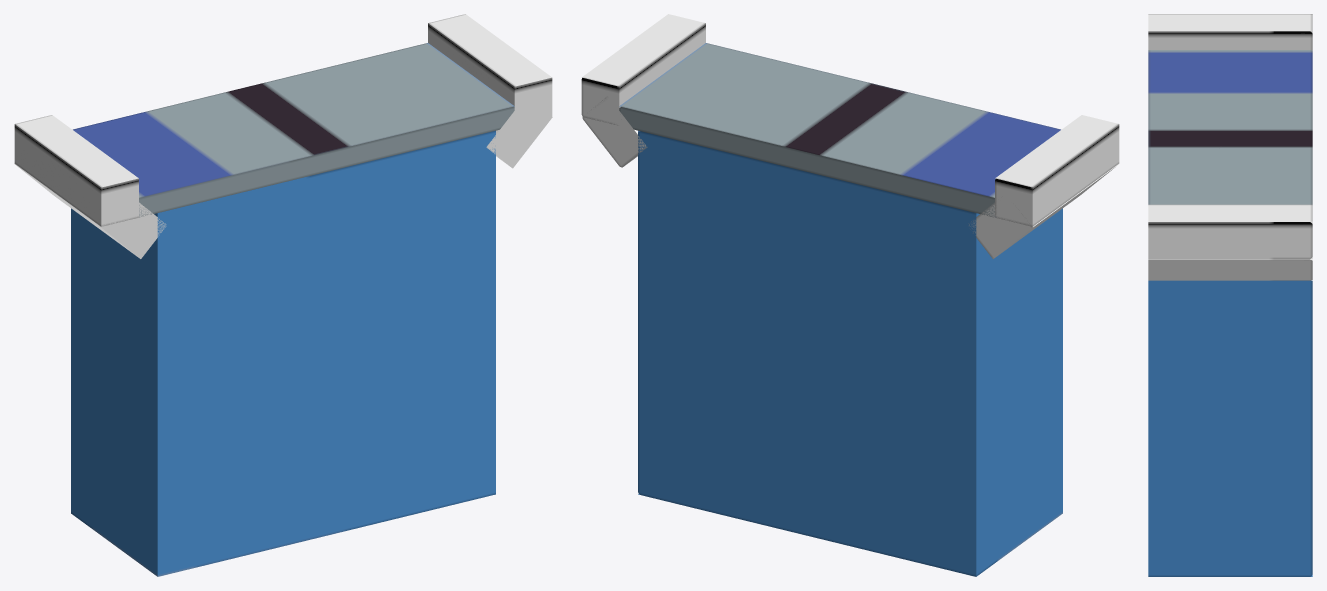
Rendered from road_step.geo.obj.
3 renders of one model, left to right at view 1: azimuth 30°, elevation 25°; view 2: azimuth 150°, elevation 25°; view 3: azimuth 270°, elevation 25°, orthographic. The views are drawn at different scales.
Visible parts, largest first — view 1: bb_main; view 2: bb_main; view 3: bb_main.
Boxes of the visible parts, x1,y1,x2,y2 form: bb_main: (14,14,552,576); bb_main: (581,14,1119,576); bb_main: (1148,14,1312,576).
Bounding box in the file's own units: 6.01 × 5.12 × 2.
1 material, 1 textured.
